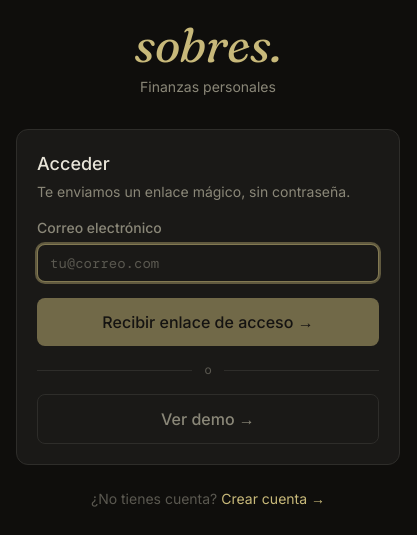
Test: LoginPage › shows error message on generic magic link failure
The image size is (417, 535).
In the field labelled "Correo electrónico": (208, 263) [37, 244, 379, 282], type "user@test.com"
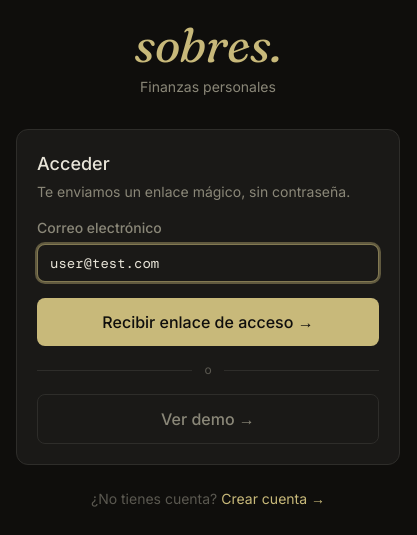
Click the button "Recibir enlace de acceso →": (208, 322) [37, 298, 379, 346]
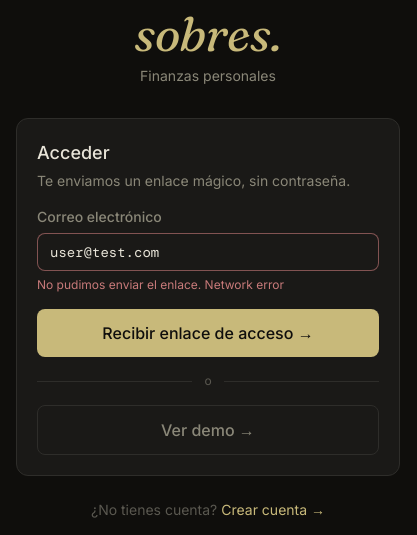
Now the text "No pudimos enviar el enlace. Network error" is shown, box [37, 277, 284, 292]
